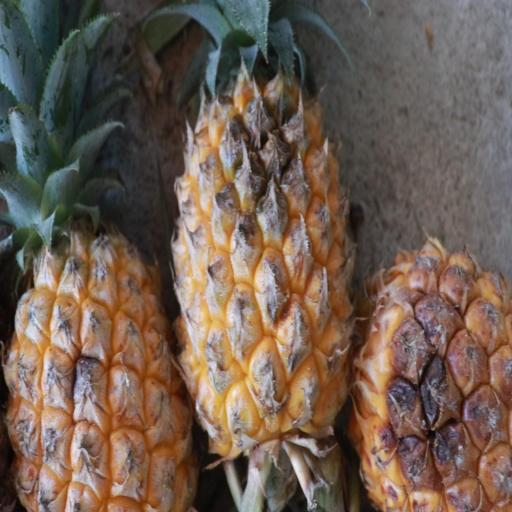Pineapple - v8 v1: (0, 0, 196, 512), (167, 0, 365, 460), (344, 235, 512, 512)
